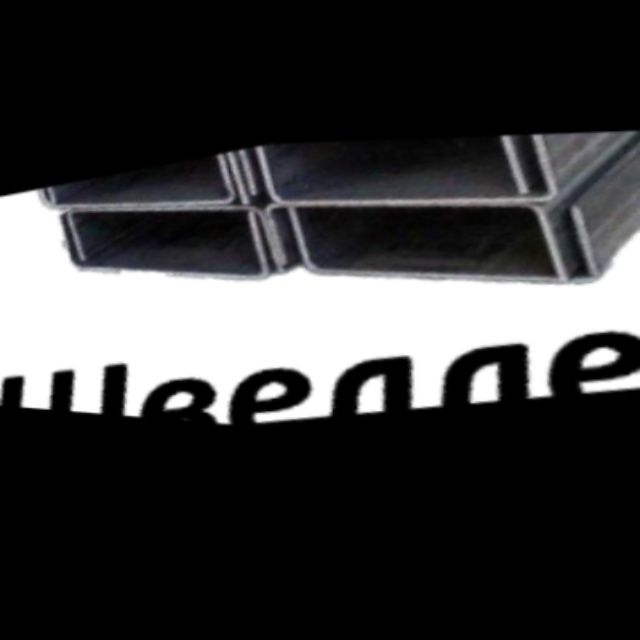Shveller: (269, 162, 626, 326), (244, 158, 589, 326), (236, 133, 573, 242), (46, 175, 303, 305), (36, 180, 288, 310), (225, 135, 534, 232), (36, 150, 258, 234), (23, 153, 243, 234)
